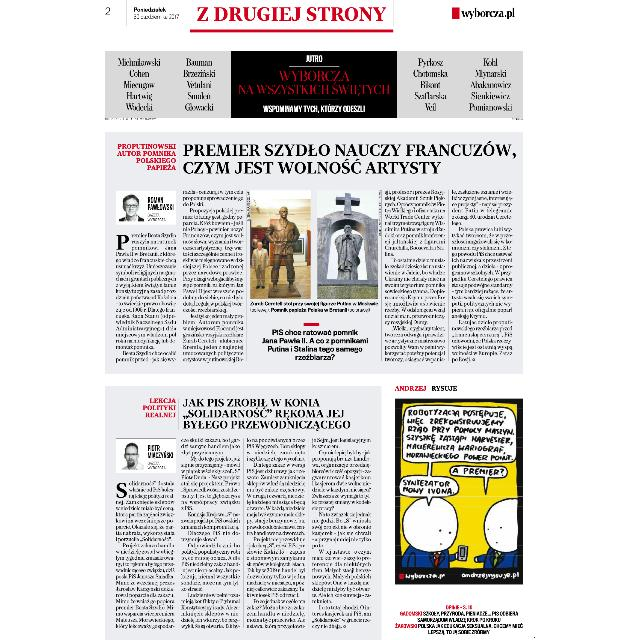article: (112, 136, 516, 368), (113, 390, 373, 632)
